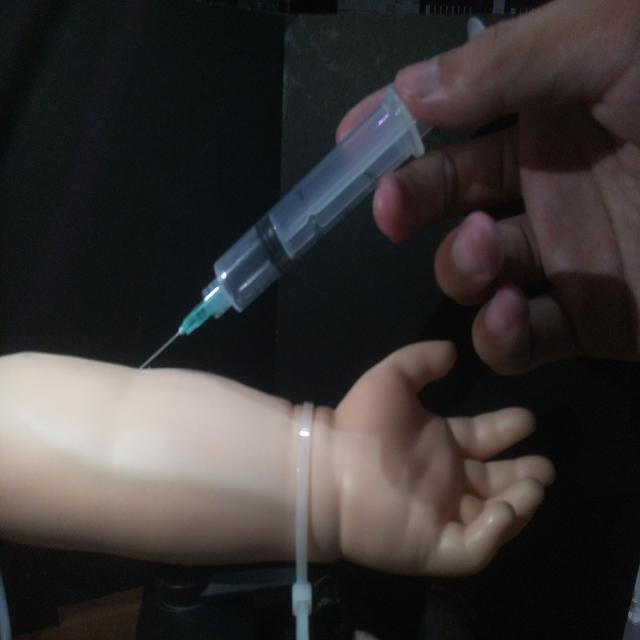28deg: (134, 80, 433, 372)
